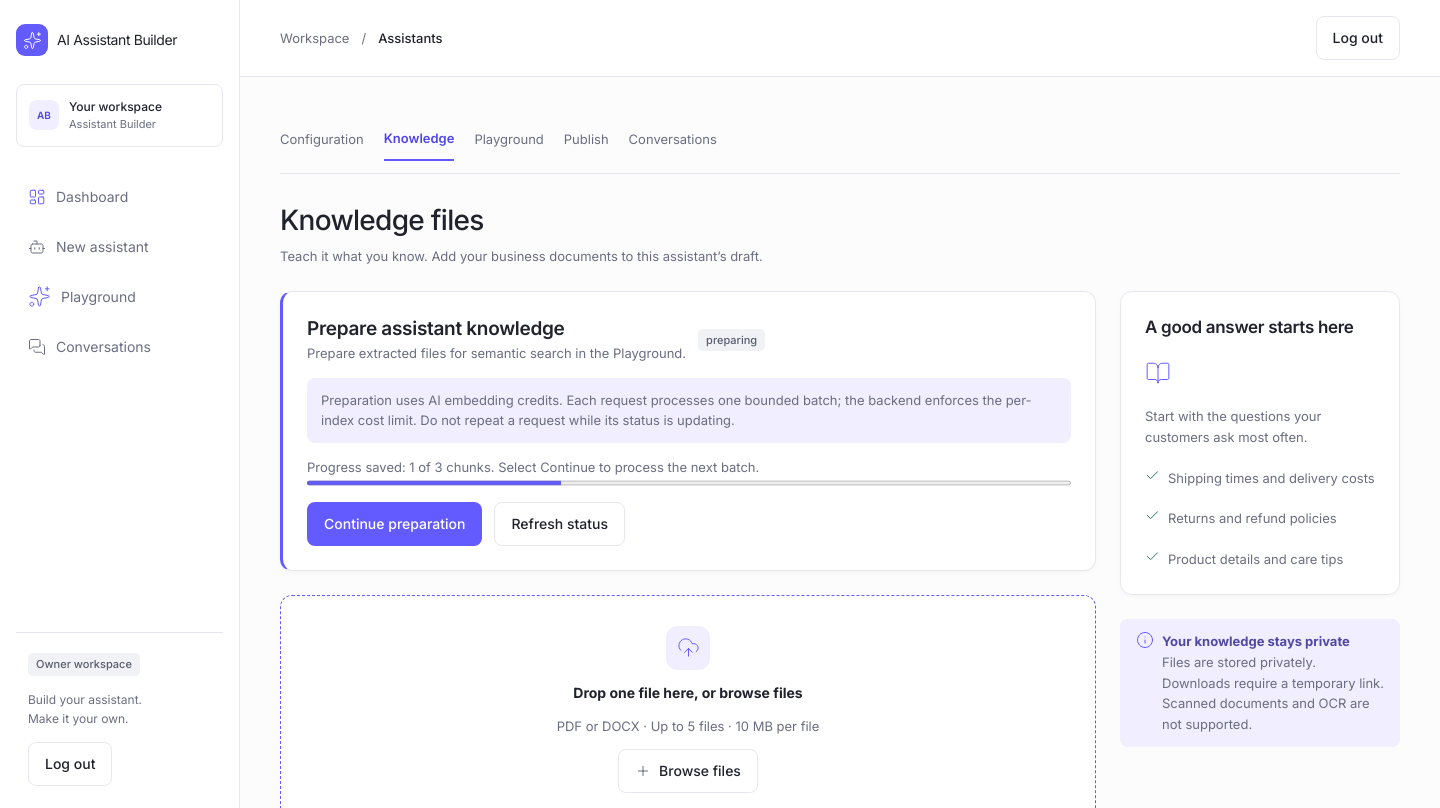
Test: knowledge UX › continues the same operation with a fresh idempotency key and handles a safe preparation error
Click the button "Continue preparation": (395, 524) x1=307 y1=502 x2=482 y2=546
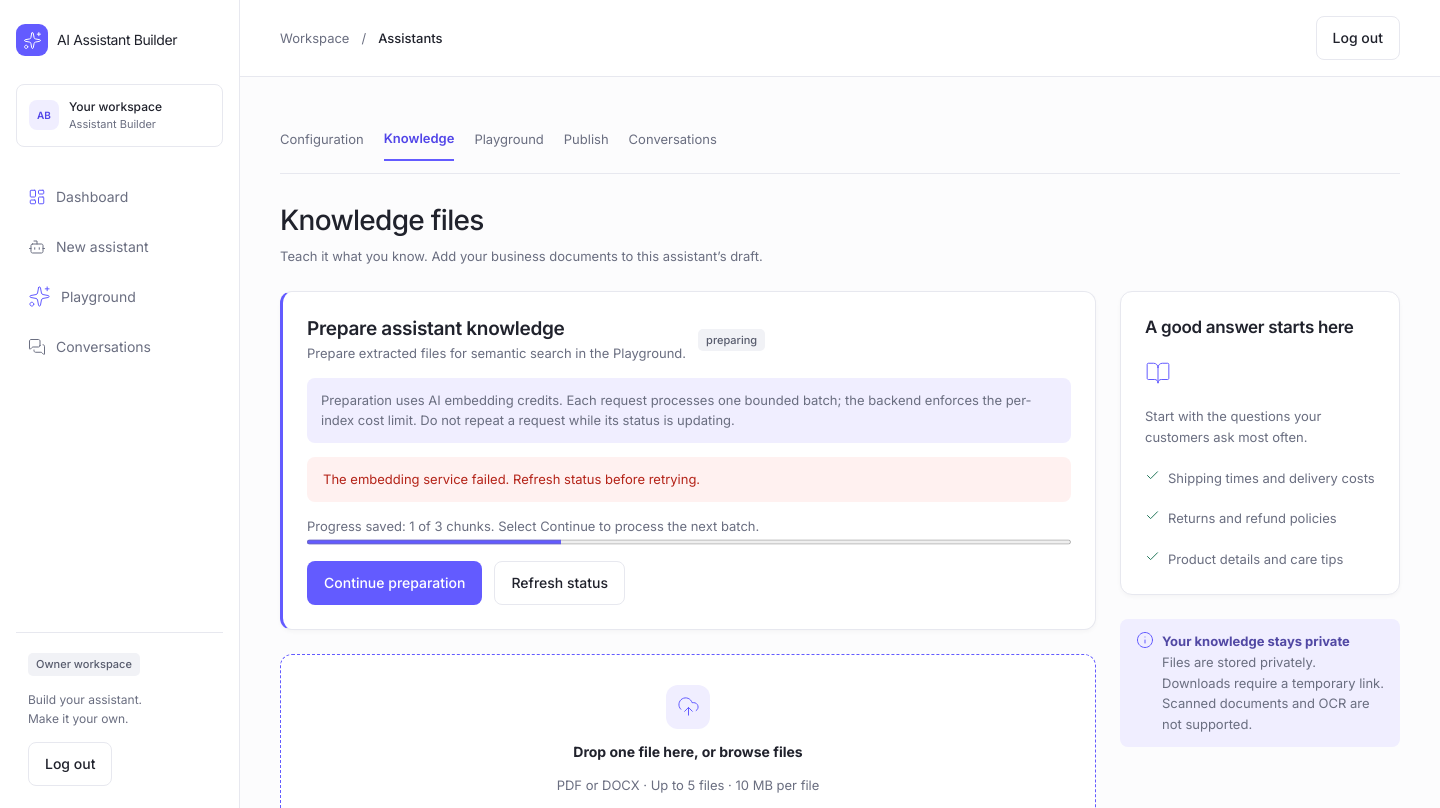
Expected: the message "The embedding service failed. Refresh status before retrying." does not show "private provider detail", x1=307 y1=457 x2=1071 y2=502
Expected: the message "The embedding service failed. Refresh status before retrying." is shown, x1=307 y1=457 x2=1071 y2=502
